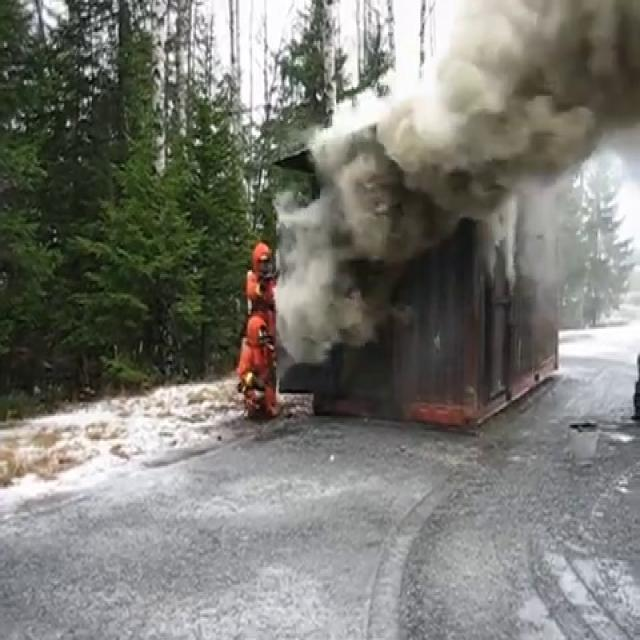Smoke: (283, 0, 639, 405)
